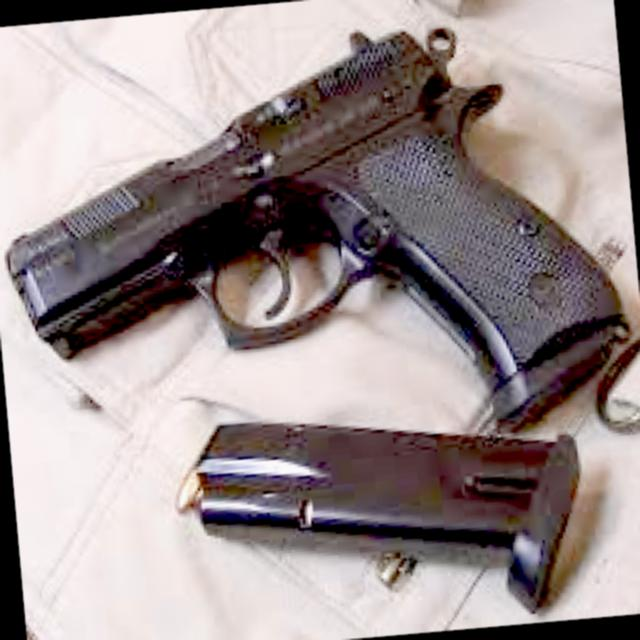semi automatic: (0, 0, 637, 473)
